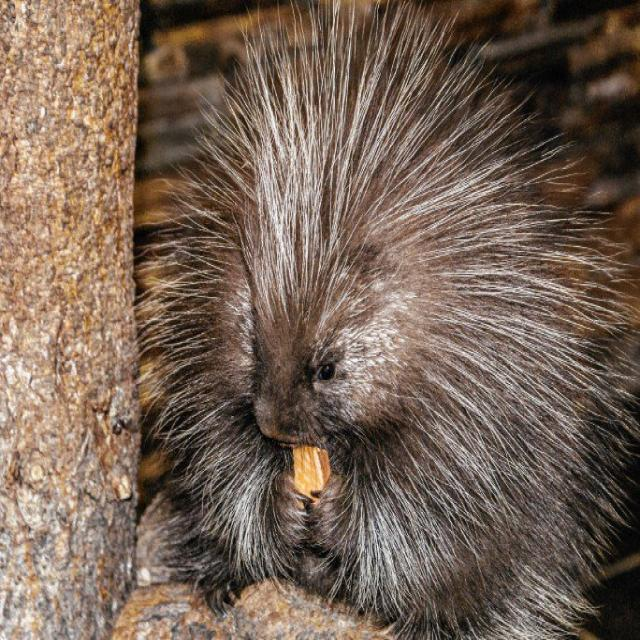Porcupine: (175, 36, 566, 593)
